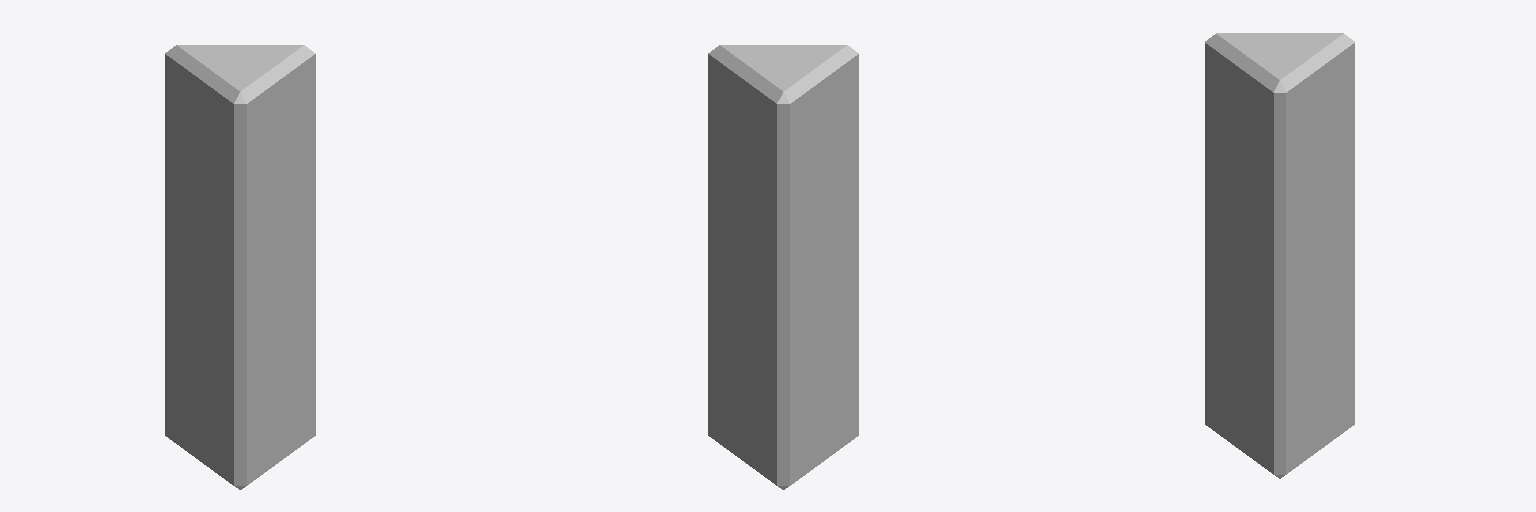
Rendered from TriangularPrism.obj.
3 renders of one model, left to right at view 1: azimuth 30°, elevation 25°; view 2: azimuth 150°, elevation 25°; view 3: azimuth 270°, elevation 25°, orthographic.
Parts seen in each view (by area): view 1: pCylinder1; view 2: pCylinder1; view 3: pCylinder1.
Part boxes in pixels (x1,y1,x2,y2): pCylinder1: (165,45,315,489); pCylinder1: (708,45,858,489); pCylinder1: (1205,33,1354,478).
Size of the model in its own units: 1.9 by 6.38 by 2.19.